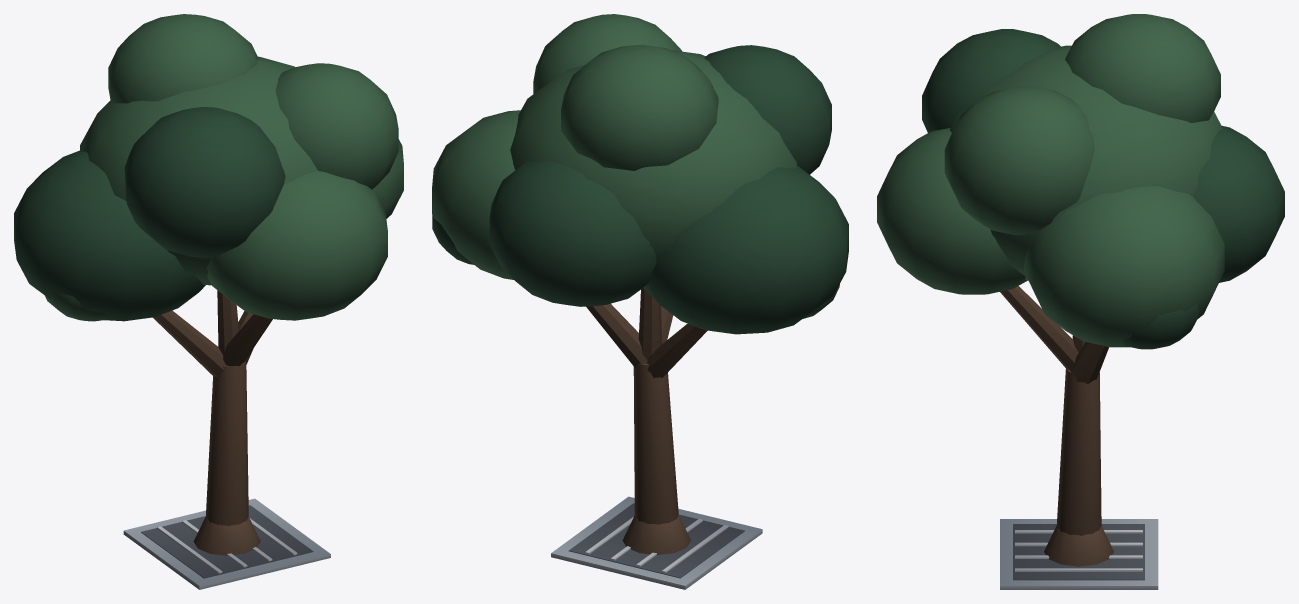
File: ck_tree_oak.fbx
The picture shows the model from 3 angles, left to right: view 1: azimuth 30°, elevation 25°; view 2: azimuth 150°, elevation 25°; view 3: azimuth 270°, elevation 25°; orthographic projection. The views are drawn at different scales.
Parts seen in each view (by area): view 1: ck_tree_oak; view 2: ck_tree_oak; view 3: ck_tree_oak.
Boxes of the visible parts, x1,y1,x2,y2 form: ck_tree_oak: (14, 14, 403, 589); ck_tree_oak: (432, 14, 848, 589); ck_tree_oak: (877, 14, 1284, 589).
Bounding box in the file's own units: 1232 × 1600 × 1119.
